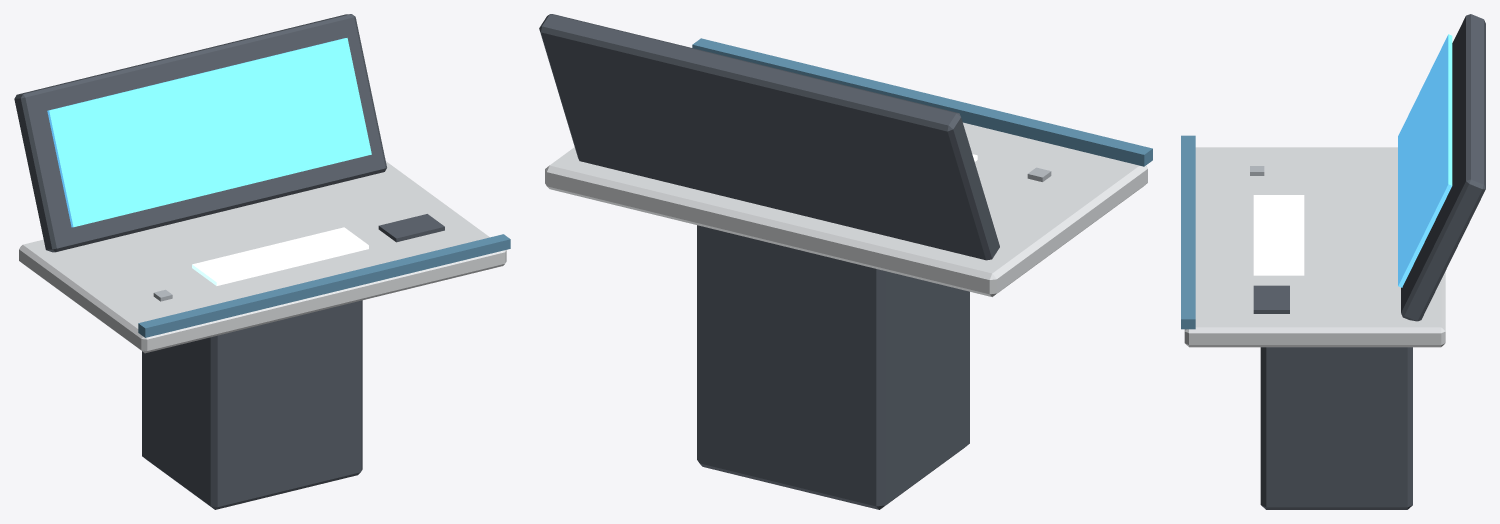
Rendered from spaceship-deck-kit-console-station-8292cda2__12561.glb.
The picture shows the model from 3 angles, left to right: view 1: azimuth 30°, elevation 25°; view 2: azimuth 150°, elevation 25°; view 3: azimuth 270°, elevation 25°; orthographic projection. The views are drawn at different scales.
Parts seen in each view (by area): view 1: console-station; view 2: console-station; view 3: console-station.
Part boxes in pixels (x1=…): console-station: x1=14, y1=14, x2=510, y2=509; console-station: x1=539, y1=14, x2=1152, y2=509; console-station: x1=1181, y1=14, x2=1485, y2=509.
Size of the model in its own units: 1.2 by 1.15 by 0.8409.
